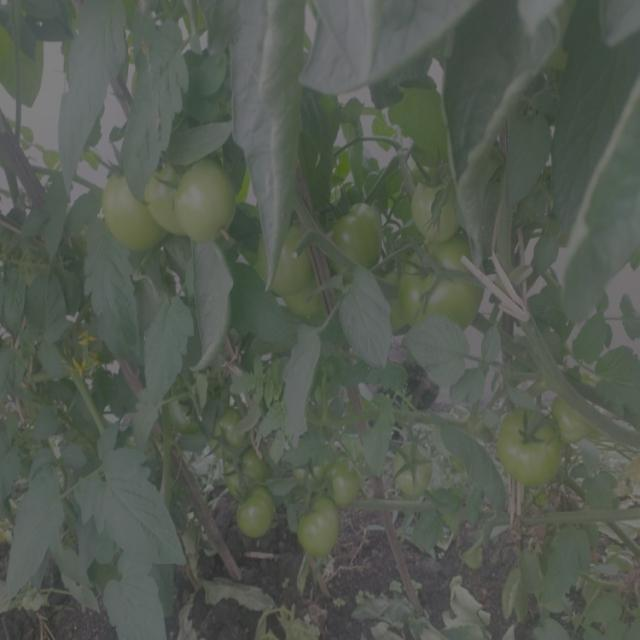tomato: (151, 159, 250, 242), (406, 245, 485, 332), (262, 227, 327, 316), (484, 405, 561, 479), (408, 172, 470, 237), (106, 167, 149, 250), (334, 199, 386, 265), (394, 440, 435, 497), (300, 506, 340, 558), (228, 495, 272, 540), (325, 462, 366, 505), (564, 384, 592, 441), (213, 411, 246, 452), (174, 388, 207, 427), (229, 456, 264, 488)
